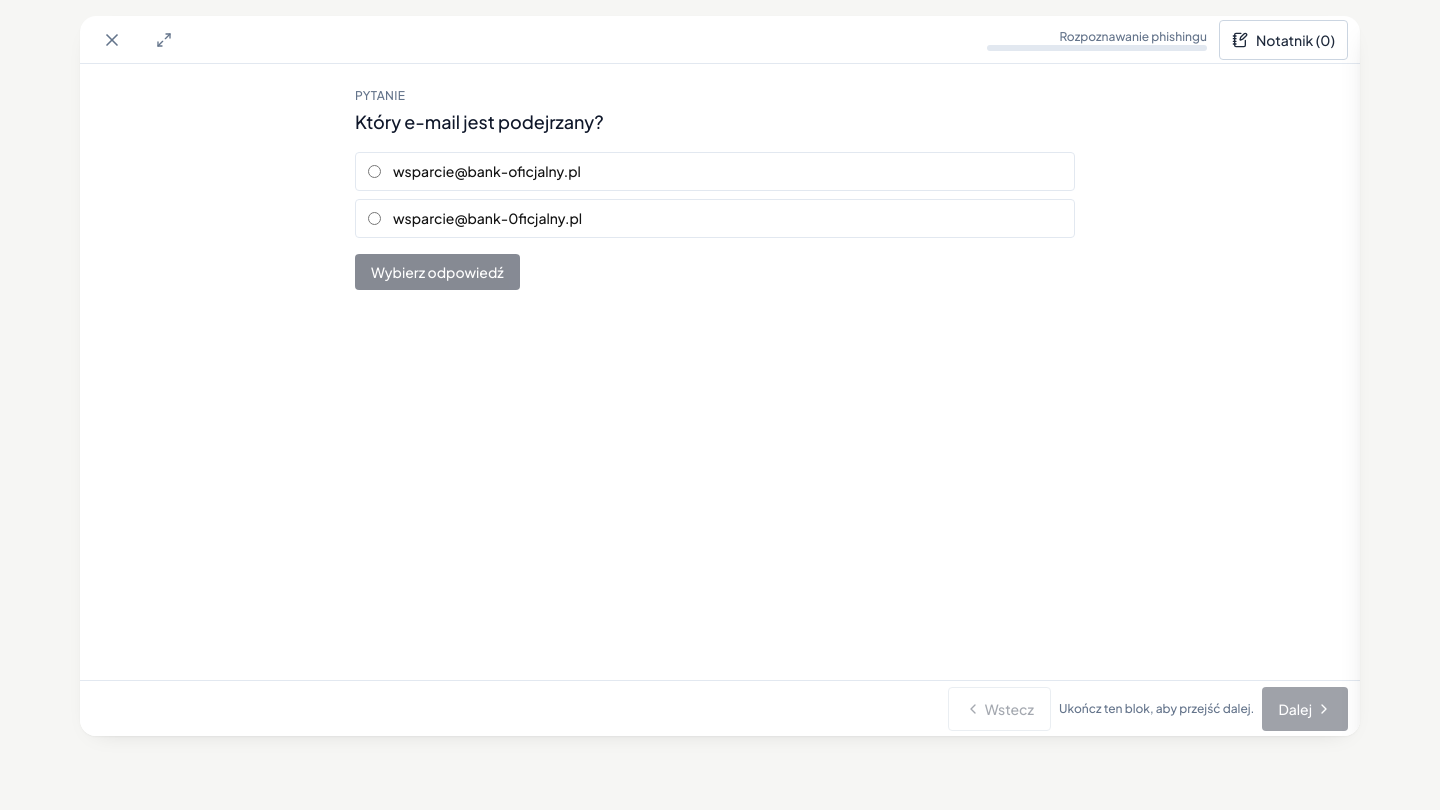
Test: CoursePlayer - przepływ kursu jednoblokowego › błędna odpowiedź na blok QUIZ (blok oceniany - nie jest w skipsFeedbackScreen niezależnie od tego, czy kończy kurs) pokazuje ekran feedbacku "Niepoprawna odpowi
Click the text "wsparcie@bank-oficjalny.pl".
click(487, 172)  # box top-left (393, 161), bottom-right (581, 182)
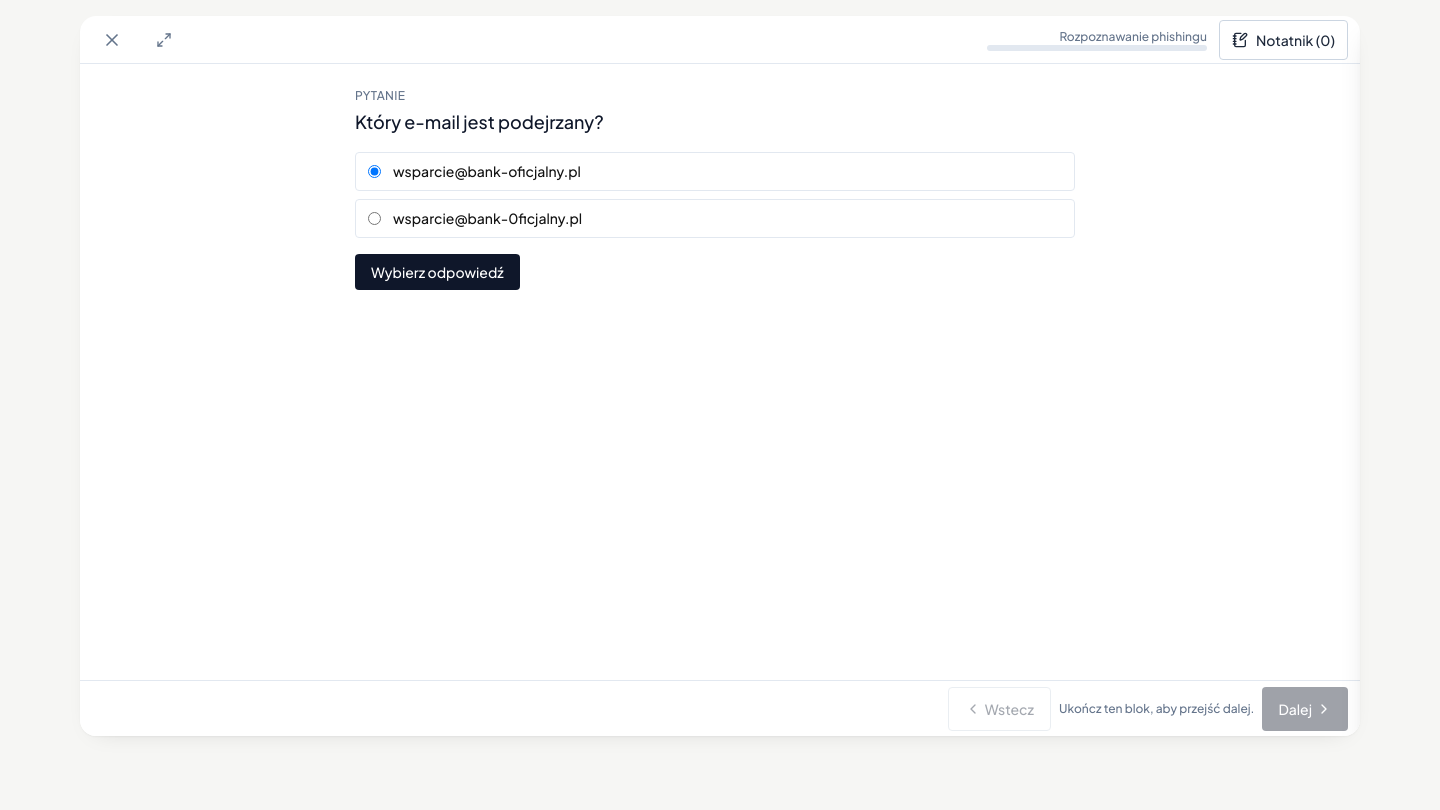
Click the button "Wybierz odpowiedź".
click(437, 272)  # box top-left (355, 254), bottom-right (520, 290)
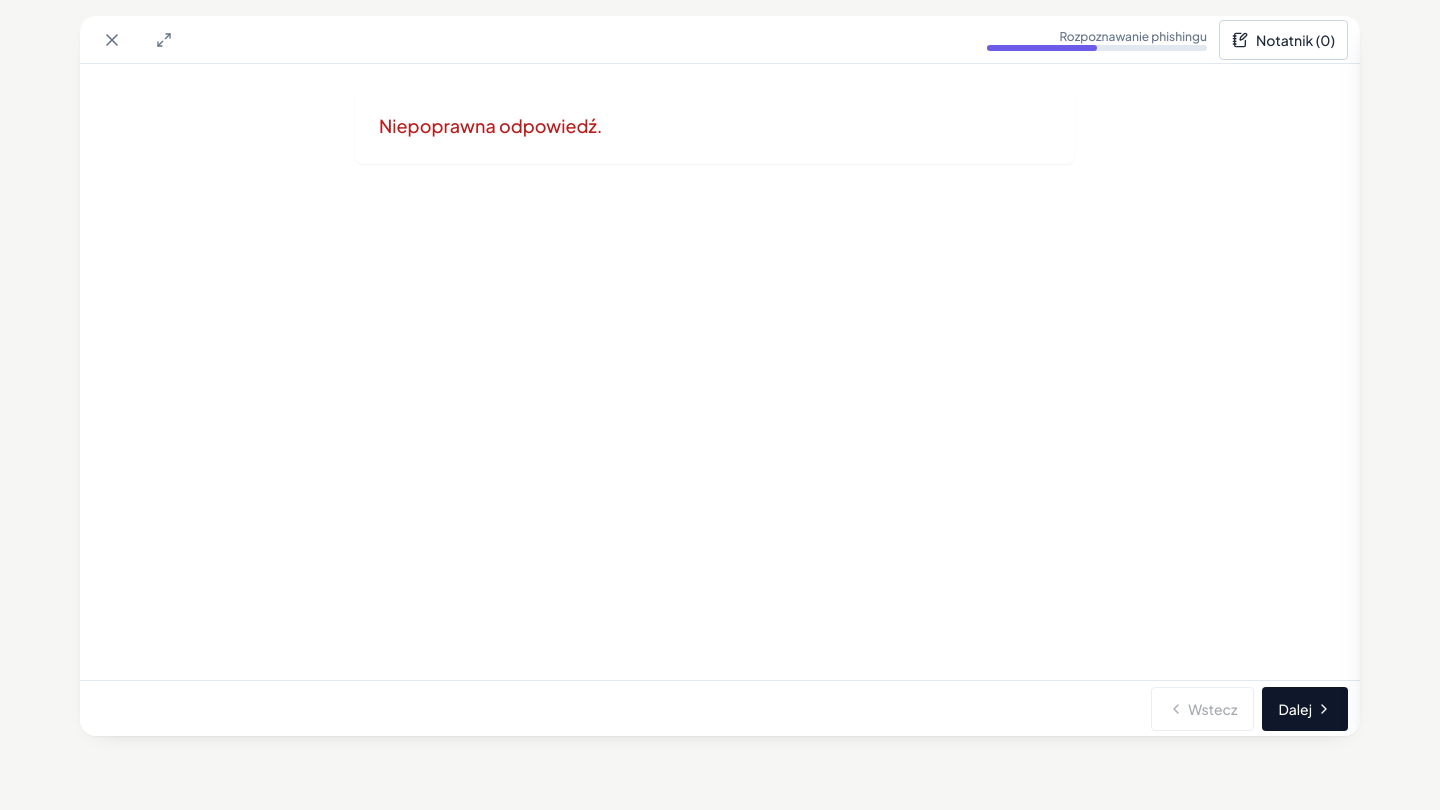
Now the text "Niepoprawna odpowiedź." is shown, box top-left (379, 114), bottom-right (602, 137)
